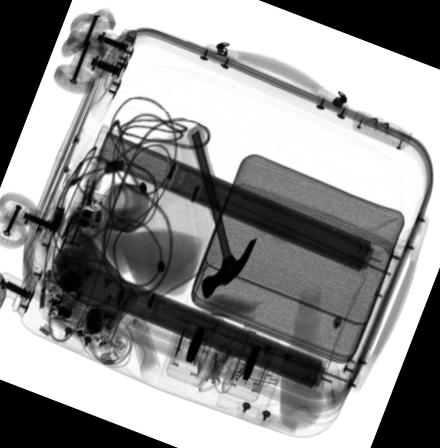Hammer: (185, 121, 257, 298)
